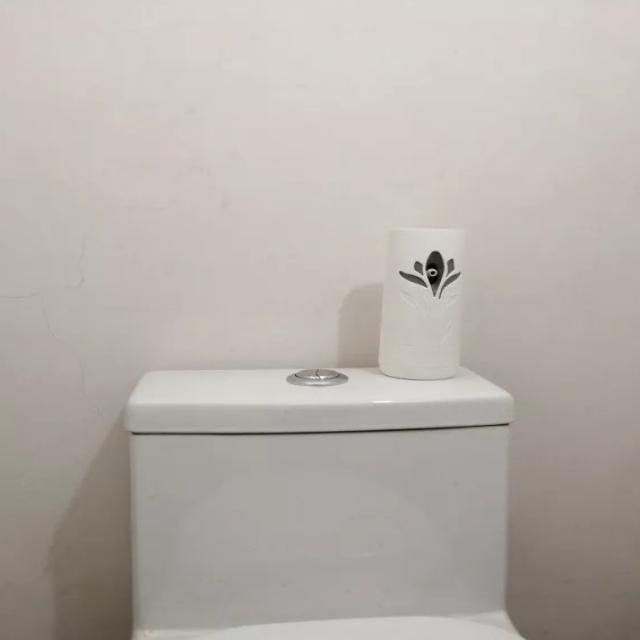hidden camera: (428, 270, 438, 277)
